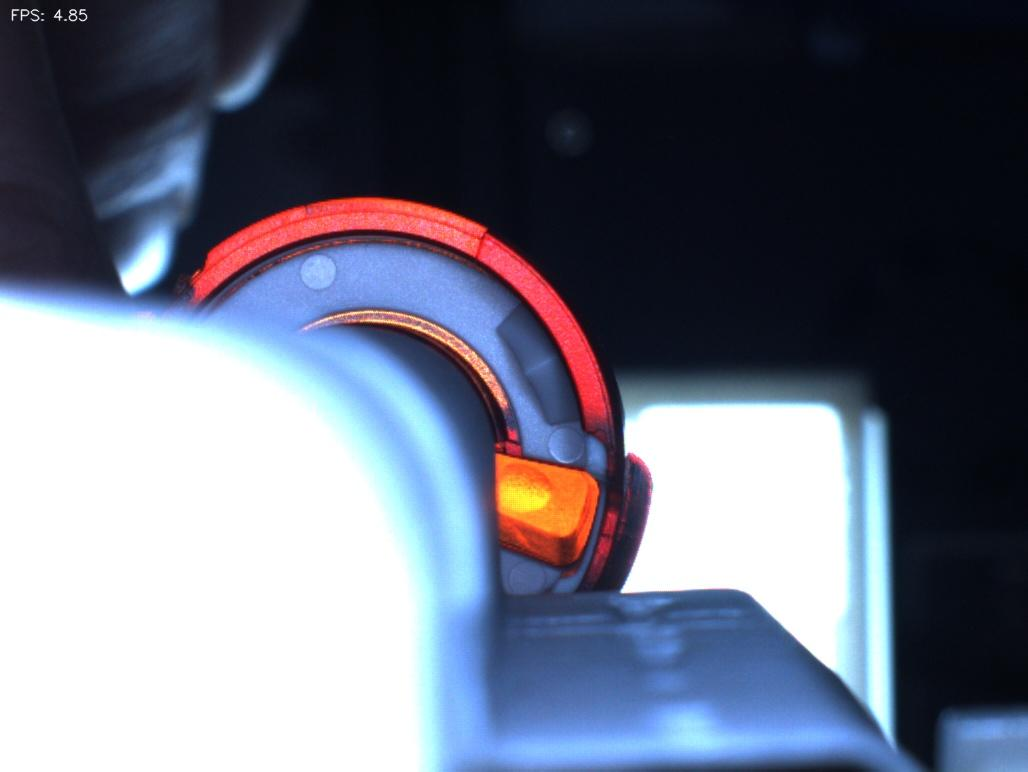Retassure: (484, 445, 562, 523)
